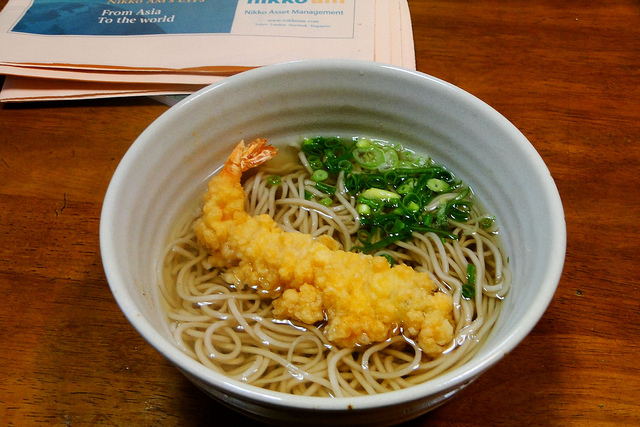Soba: (162, 138, 509, 394)
